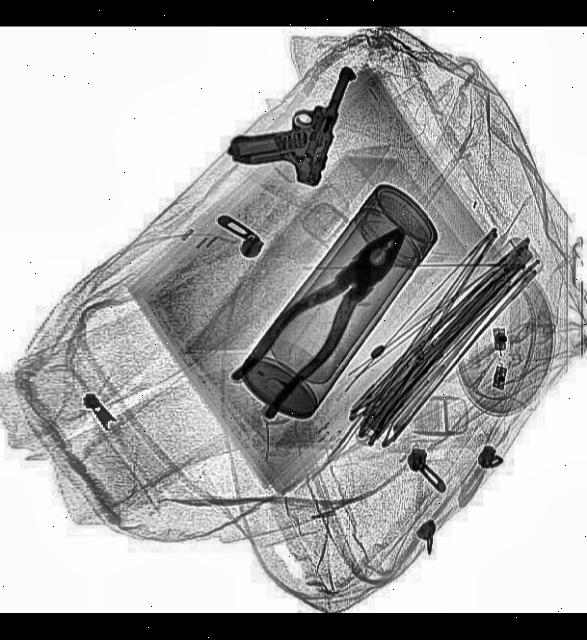Gun: (222, 40, 356, 191)
Pliers: (221, 207, 424, 422)
